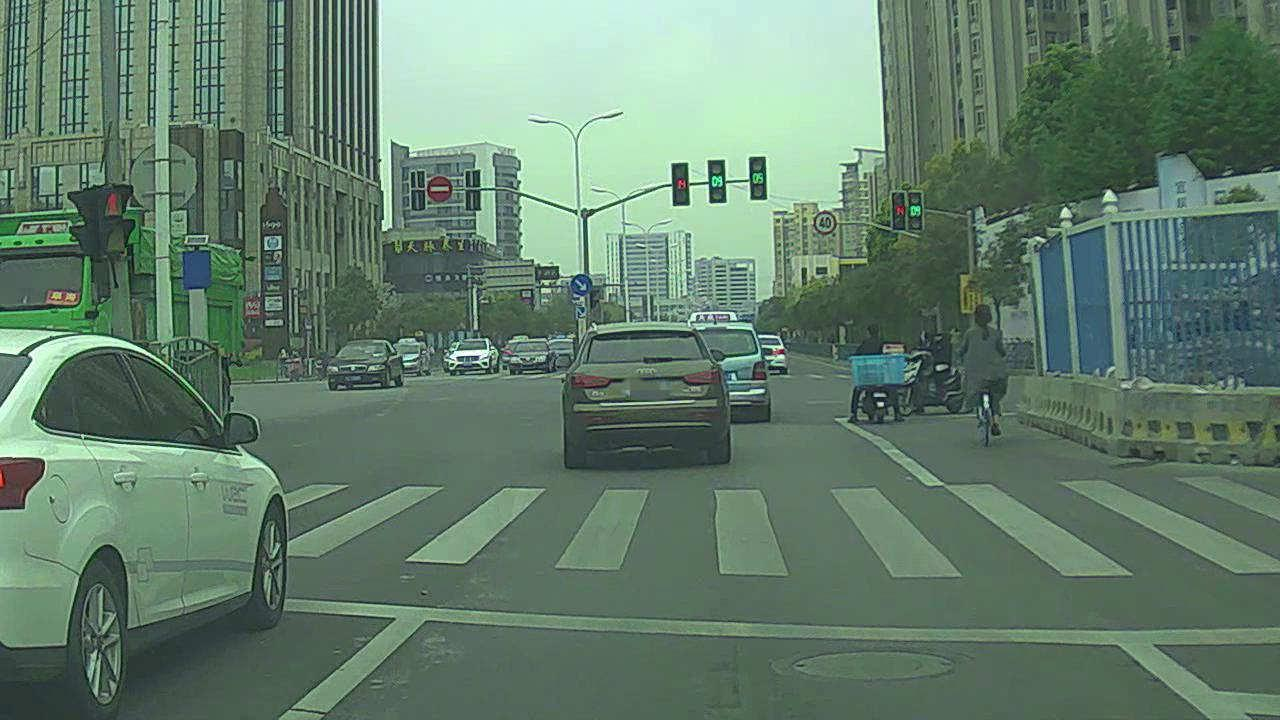traffic_light: (709, 159, 729, 201), (674, 162, 690, 204), (752, 154, 767, 198), (891, 192, 907, 228), (907, 193, 923, 229)
